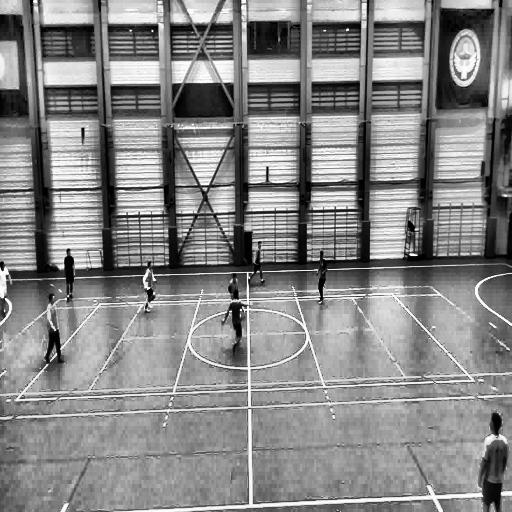player: (476, 411, 506, 512), (223, 288, 249, 356), (43, 291, 65, 364), (143, 261, 157, 314), (249, 241, 265, 284), (64, 248, 76, 303), (0, 261, 11, 317), (317, 250, 327, 302)
